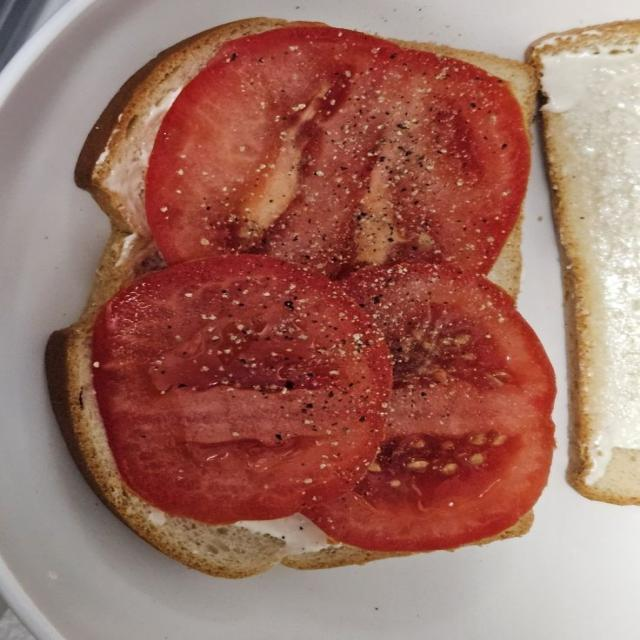sliced bread: (46, 221, 388, 578), (528, 20, 639, 504), (395, 40, 536, 132), (187, 18, 285, 72), (488, 219, 521, 299)
sliced tomatoe: (146, 27, 529, 276), (93, 256, 391, 523), (305, 263, 554, 551), (146, 27, 397, 274)
